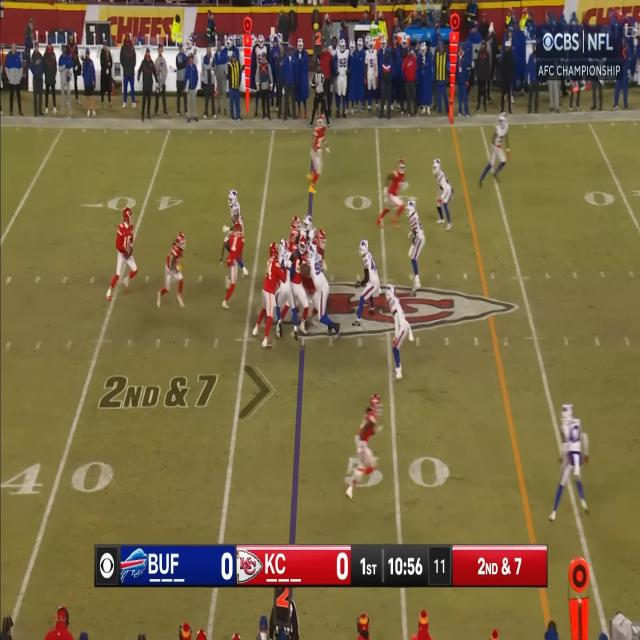Ball: (124, 243, 132, 257)
